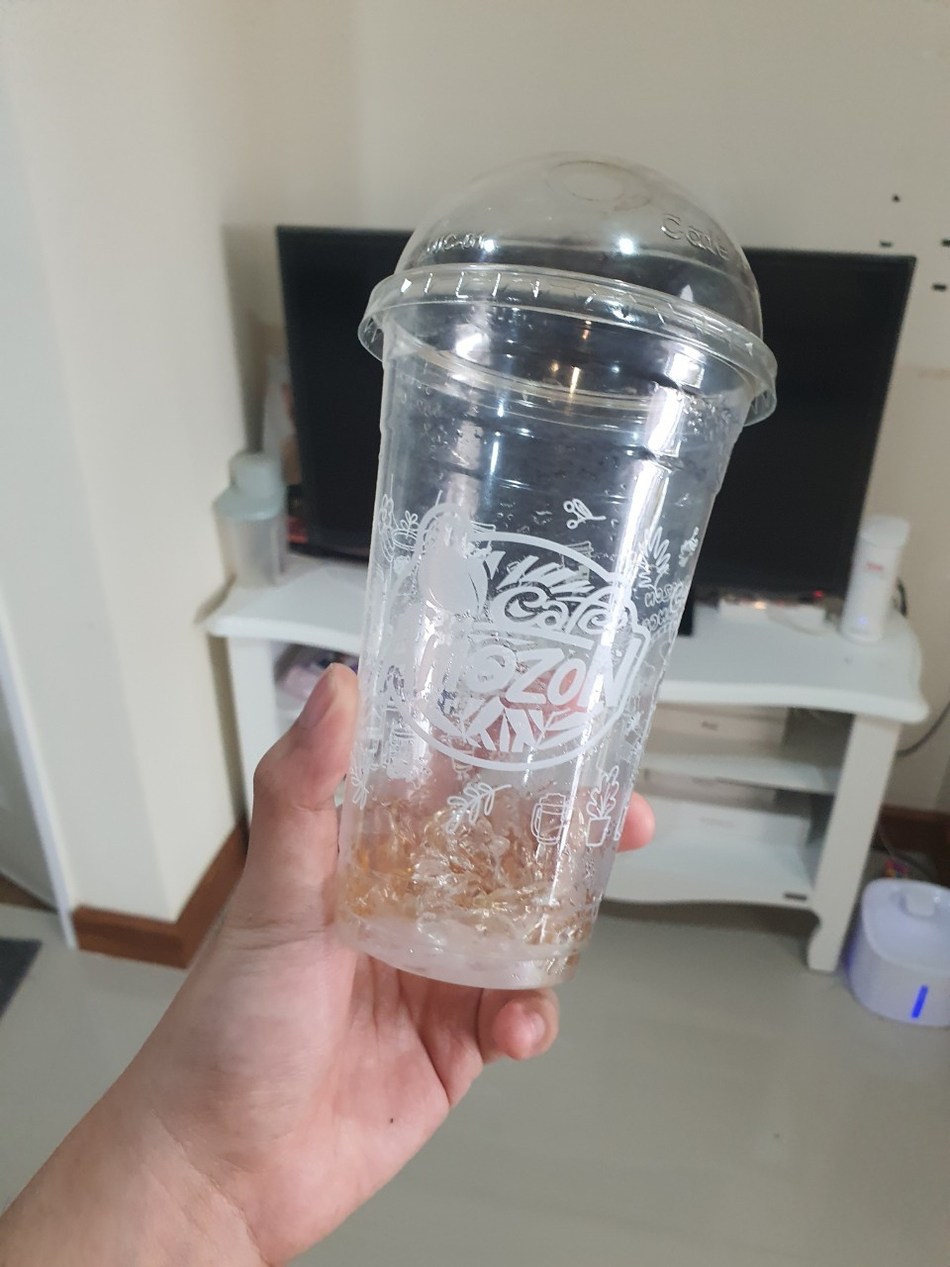plastic: (302, 136, 780, 1008)
